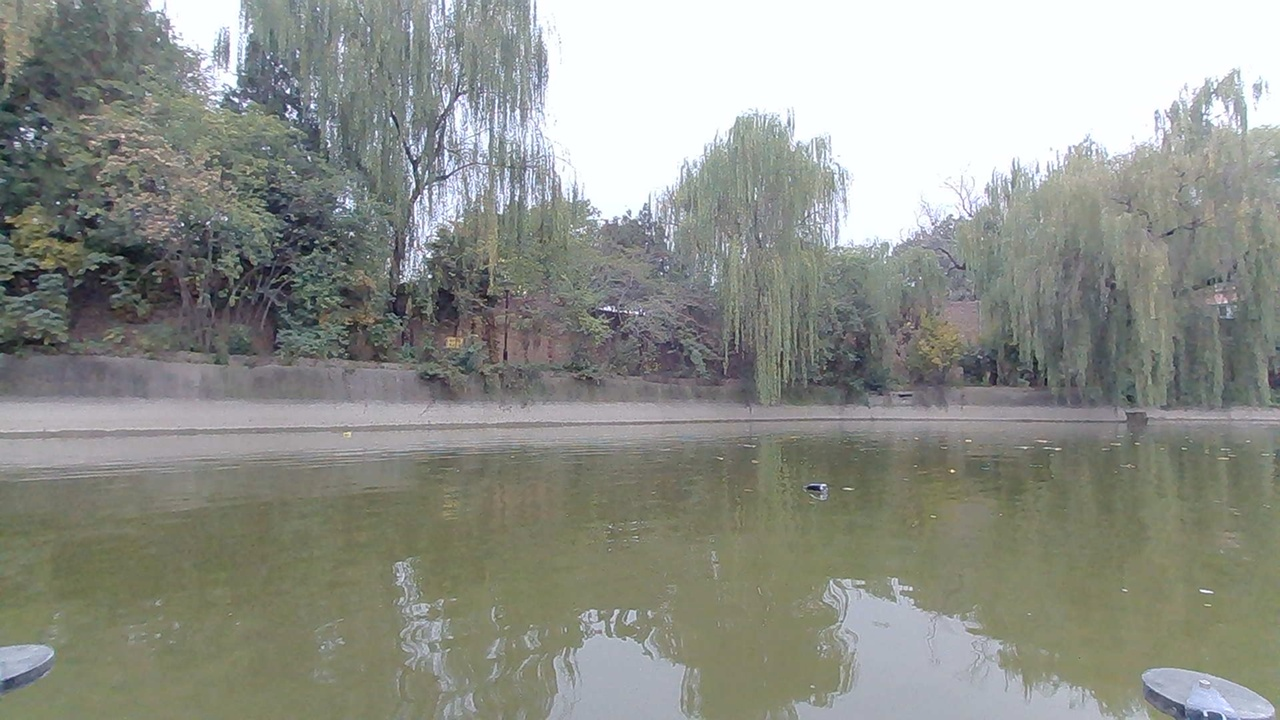bottle: (805, 476, 833, 502)
